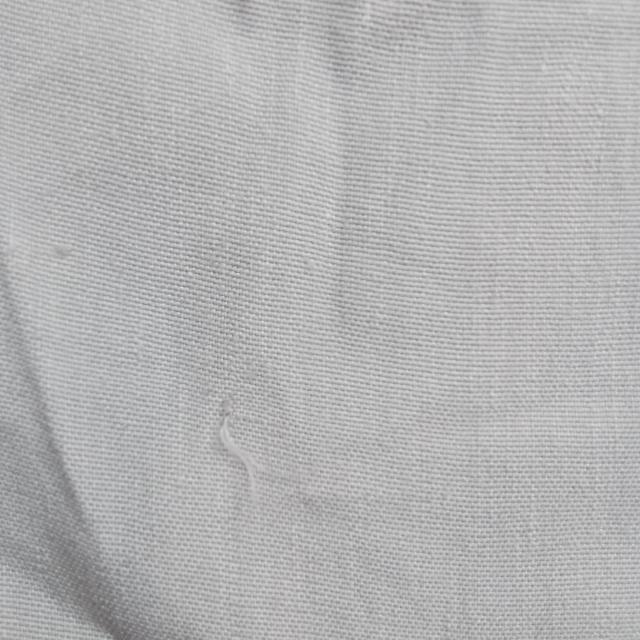pulled_or_thick_thread: (221, 405, 264, 511)
